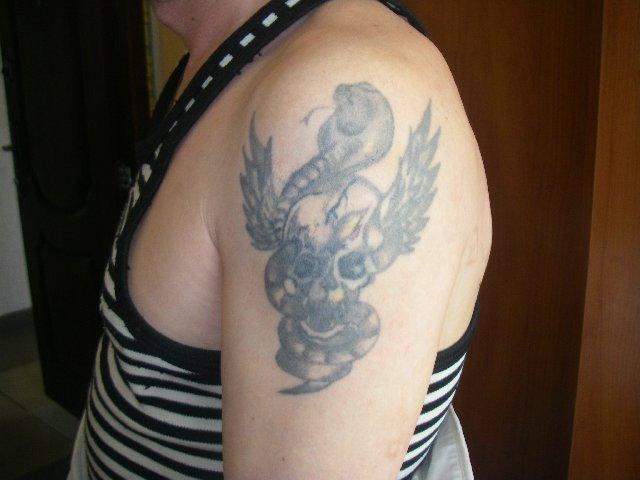tatu7_zmeya: (262, 52, 396, 400)
